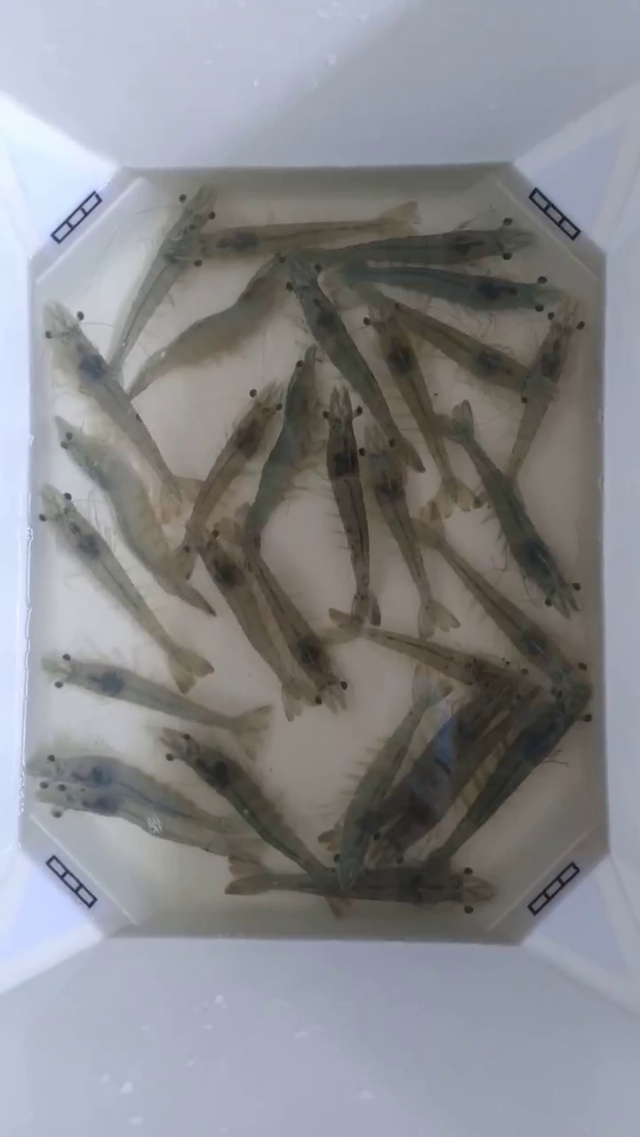shrimp: (539, 455, 639, 736), (555, 193, 639, 487), (0, 329, 103, 567), (552, 534, 639, 809), (13, 557, 117, 754), (28, 180, 118, 388), (72, 328, 177, 496), (444, 168, 561, 311), (426, 773, 519, 939), (180, 173, 282, 322), (40, 485, 149, 622), (282, 246, 375, 403), (179, 410, 266, 575), (207, 192, 321, 314), (105, 664, 225, 761), (378, 610, 498, 707), (257, 343, 324, 516), (344, 365, 424, 497), (38, 755, 162, 834), (282, 609, 361, 720), (379, 456, 474, 543), (152, 537, 242, 628), (0, 399, 33, 635), (328, 548, 380, 641), (44, 853, 98, 908)
